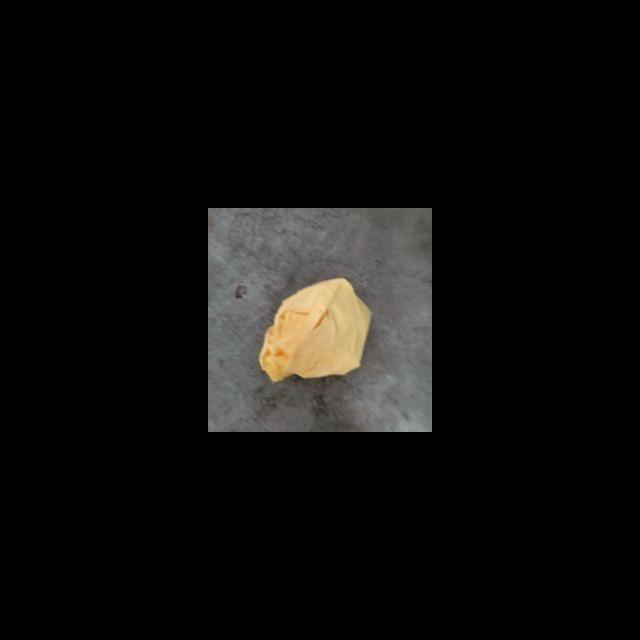paper: (256, 267, 385, 409)
